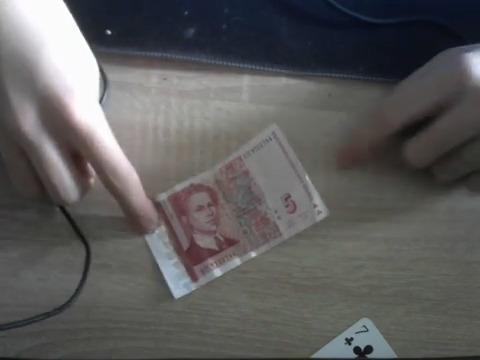5leva: (145, 124, 330, 300)
